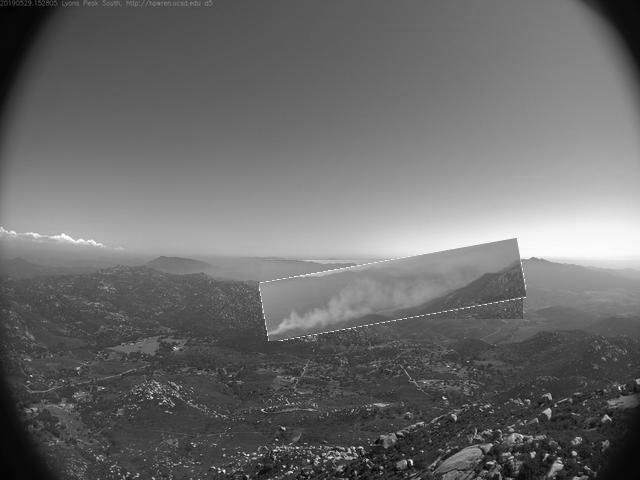smoke: (262, 250, 527, 332)
